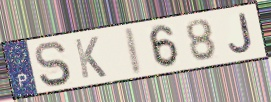6: (147, 23, 181, 70)
8: (184, 18, 218, 63)
I: (124, 25, 145, 77)
J: (227, 12, 255, 55)
K: (72, 34, 109, 80)
S: (32, 40, 73, 88)
